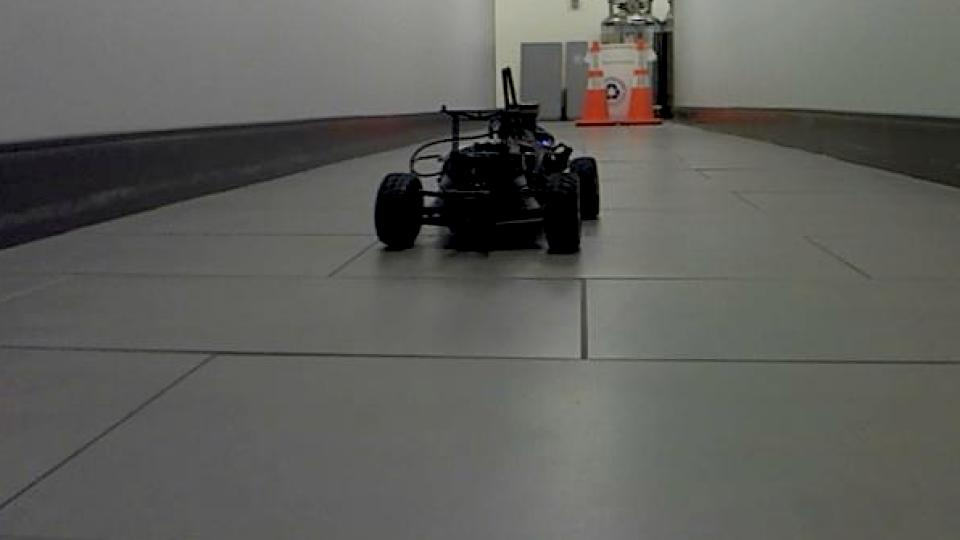car: (372, 65, 606, 257)
